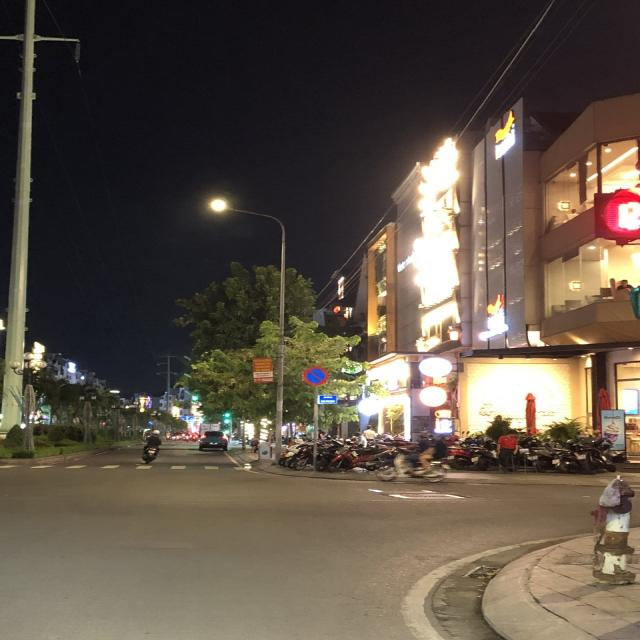Bien bao cam do xe: (300, 362, 331, 388)
